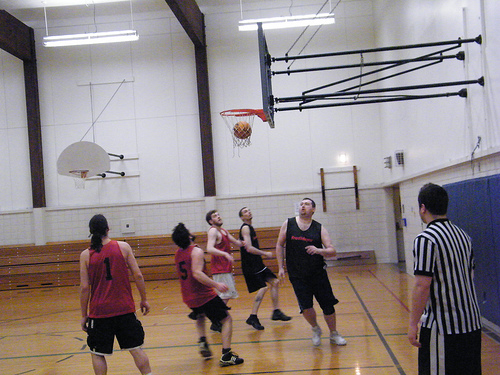basketball: (232, 120, 252, 140)
